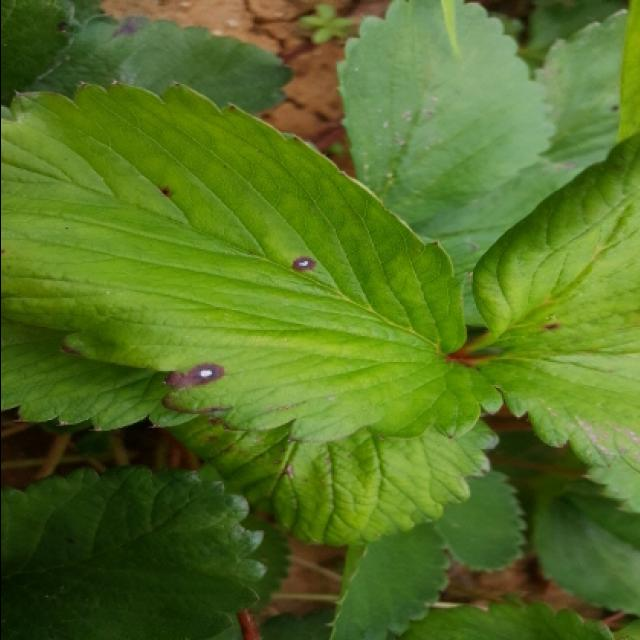Leaf Spot: (2, 79, 479, 444), (459, 128, 640, 477), (163, 419, 499, 551), (27, 11, 294, 115), (533, 8, 628, 170), (2, 0, 83, 103)
